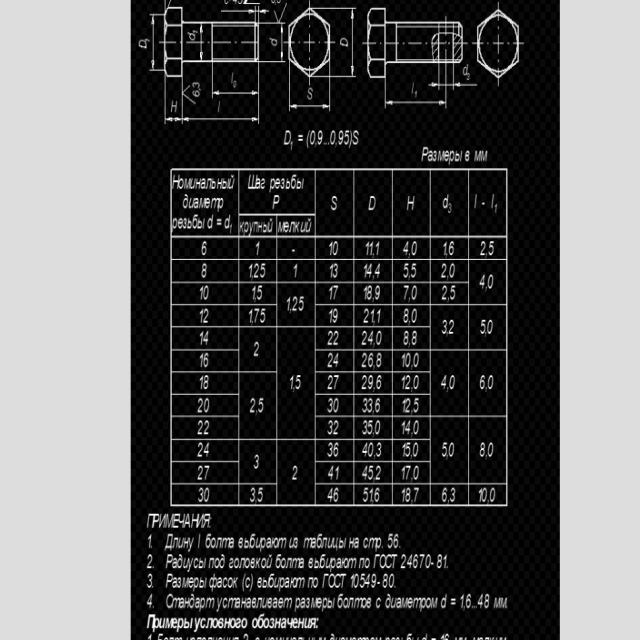marking_line: (184, 116, 258, 122), (387, 99, 444, 106), (289, 102, 330, 110), (351, 11, 356, 75), (213, 90, 258, 96), (455, 81, 479, 90), (198, 24, 203, 59), (281, 25, 285, 61), (166, 115, 181, 123), (428, 81, 438, 89)
numeric: (362, 372, 385, 392), (285, 294, 307, 314), (361, 328, 384, 347), (478, 371, 497, 394), (361, 463, 382, 483), (400, 352, 421, 372), (400, 418, 422, 437), (363, 307, 386, 325), (361, 419, 381, 439), (247, 262, 269, 280), (400, 374, 422, 392), (439, 285, 461, 303), (361, 353, 384, 370), (288, 372, 302, 399), (400, 329, 421, 347), (401, 441, 423, 458), (401, 283, 420, 302), (403, 395, 423, 413), (439, 317, 457, 337), (247, 308, 268, 325), (362, 443, 384, 459), (402, 487, 421, 505), (478, 273, 497, 291), (479, 318, 496, 338), (363, 283, 381, 301), (441, 239, 459, 257), (362, 487, 381, 504), (402, 306, 421, 323), (248, 396, 264, 416), (402, 261, 418, 281), (401, 464, 421, 480), (479, 488, 499, 504), (440, 487, 458, 504), (477, 441, 495, 458), (479, 241, 497, 258), (363, 398, 382, 414), (402, 241, 421, 257), (439, 262, 458, 278), (364, 262, 382, 278), (440, 441, 456, 459), (440, 375, 459, 390), (366, 240, 382, 257), (250, 285, 265, 303), (326, 353, 342, 369), (197, 375, 212, 392), (327, 330, 342, 347), (326, 398, 341, 415), (328, 463, 340, 484), (197, 442, 211, 459), (250, 487, 264, 504), (327, 487, 341, 504), (199, 352, 212, 370), (326, 373, 339, 391), (326, 307, 339, 325), (326, 419, 339, 437), (197, 419, 210, 436), (327, 238, 340, 255), (197, 397, 210, 413), (197, 465, 210, 481), (327, 441, 340, 457), (200, 305, 210, 325), (198, 487, 211, 502), (328, 263, 341, 278), (199, 284, 211, 300), (291, 263, 302, 280), (329, 284, 340, 300), (252, 341, 261, 359), (199, 241, 209, 257), (198, 332, 209, 346), (200, 263, 209, 279), (253, 453, 261, 471), (192, 82, 200, 99), (253, 241, 262, 256), (292, 465, 298, 482)
special_symbol: (274, 3, 287, 22), (183, 86, 192, 104)
